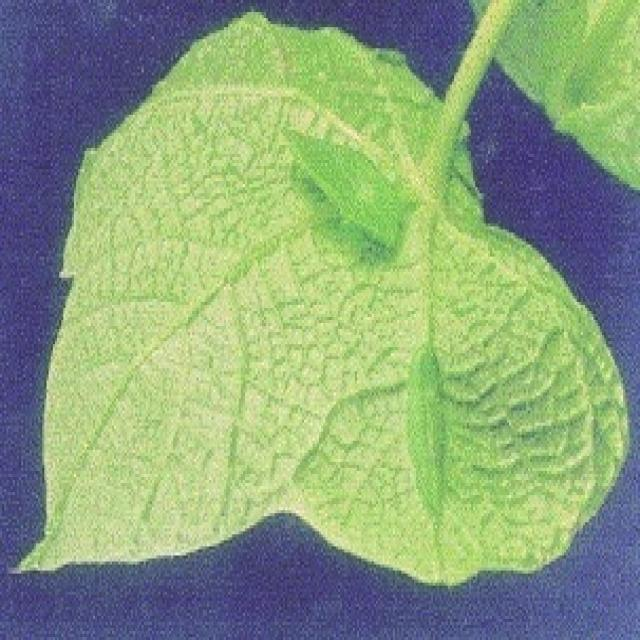Leaf Curl Virus: (114, 116, 458, 521)
